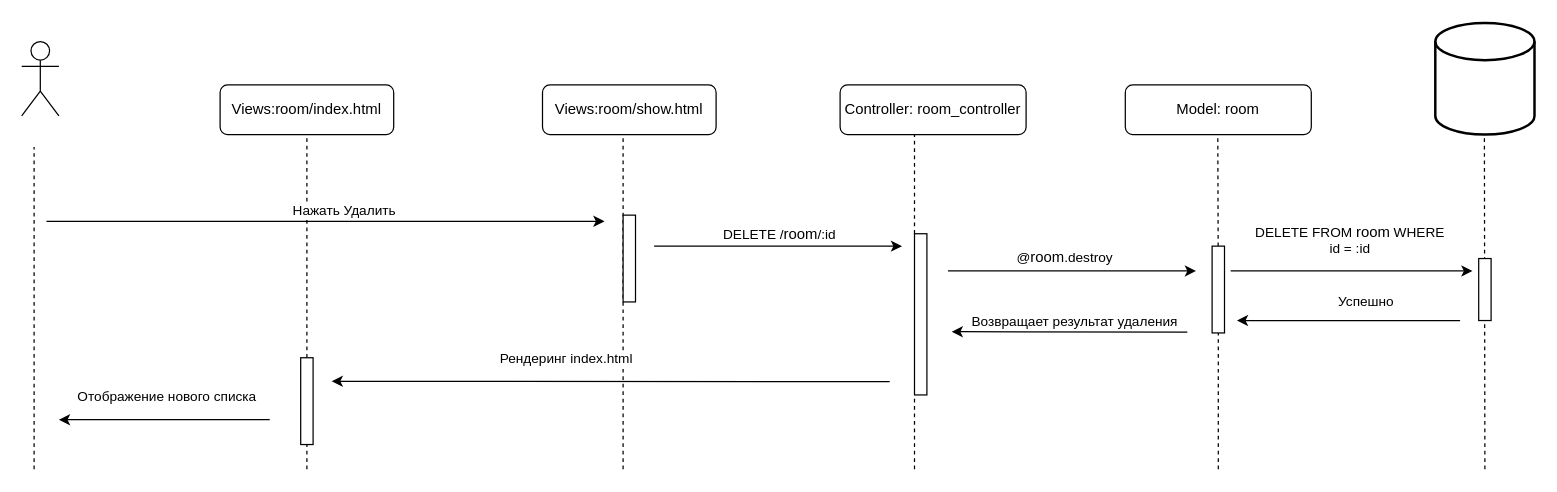
The diagram is 1557 pixels wide and 492 high, and some of its shapes have lost their labels. Each missing label, with the box of its shape:
DB: (1433, 21, 1535, 135)
User: (20, 40, 59, 116)
